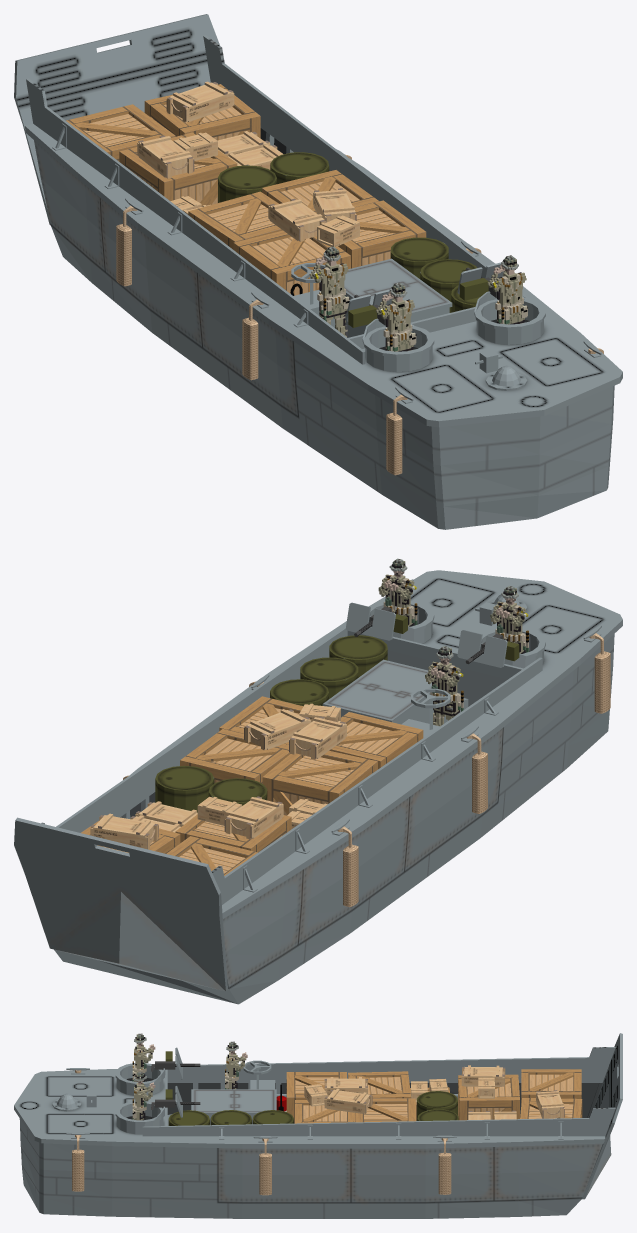
Rendered from armory_higgins.glb.
The picture shows the model from 3 angles, top to bottom: view 1: azimuth 30°, elevation 25°; view 2: azimuth 150°, elevation 25°; view 3: azimuth 270°, elevation 25°; orthographic projection. The views are drawn at different scales.
Parts seen in each view (by area): view 1: 00_chassis_higgins_cargo_hull.mesh, crew_soldier_SLOT_00_DRIVER, 03_turret_higgins_turret.mesh, 05_turret_higgins_turret.mesh, crew_soldier_SLOT_01_GUNNER, crew_soldier_SLOT_02_GUNNER; view 2: 00_chassis_higgins_cargo_hull.mesh, 05_turret_higgins_turret.mesh, 03_turret_higgins_turret.mesh, crew_soldier_SLOT_00_DRIVER, crew_soldier_SLOT_02_GUNNER, crew_soldier_SLOT_01_GUNNER; view 3: 00_chassis_higgins_cargo_hull.mesh, 05_turret_higgins_turret.mesh, 03_turret_higgins_turret.mesh, crew_soldier_SLOT_02_GUNNER, crew_soldier_SLOT_00_DRIVER, crew_soldier_SLOT_01_GUNNER.
Boxes of the visible parts, x1,y1,x2,y2 form: 00_chassis_higgins_cargo_hull.mesh: (14, 14, 622, 529); crew_soldier_SLOT_00_DRIVER: (309, 246, 349, 337); 03_turret_higgins_turret.mesh: (345, 289, 434, 357); 05_turret_higgins_turret.mesh: (457, 262, 545, 330); crew_soldier_SLOT_01_GUNNER: (376, 282, 416, 351); crew_soldier_SLOT_02_GUNNER: (487, 255, 527, 324); 00_chassis_higgins_cargo_hull.mesh: (14, 570, 622, 1004); 05_turret_higgins_turret.mesh: (345, 601, 434, 640); 03_turret_higgins_turret.mesh: (457, 628, 545, 667); crew_soldier_SLOT_00_DRIVER: (425, 646, 463, 726); crew_soldier_SLOT_02_GUNNER: (378, 558, 417, 626); crew_soldier_SLOT_01_GUNNER: (490, 586, 528, 653); 00_chassis_higgins_cargo_hull.mesh: (14, 1033, 622, 1218); 05_turret_higgins_turret.mesh: (115, 1086, 200, 1123); 03_turret_higgins_turret.mesh: (115, 1047, 200, 1085); crew_soldier_SLOT_02_GUNNER: (132, 1072, 155, 1120); crew_soldier_SLOT_00_DRIVER: (225, 1041, 247, 1089); crew_soldier_SLOT_01_GUNNER: (132, 1033, 155, 1081).
Size of the model in its own units: 4.25 by 3.64 by 13.32.
Materials: 37 (2 with a texture image).
